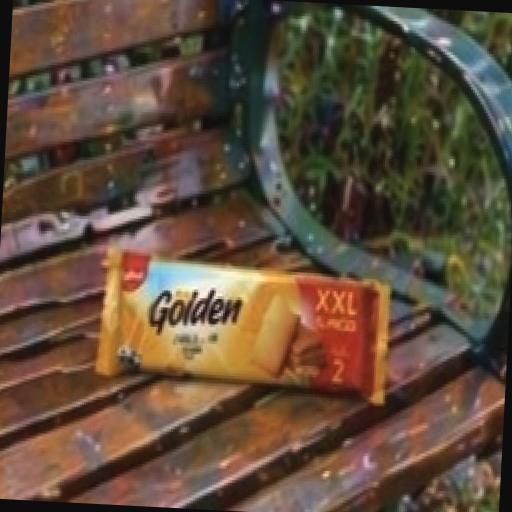golden: (60, 169, 428, 460)
